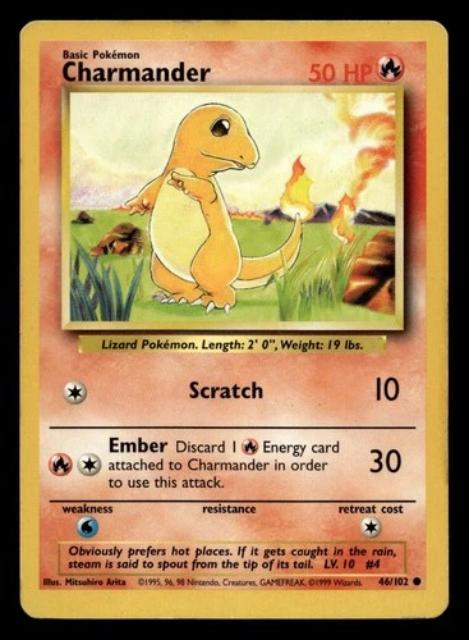Card: (15, 15, 453, 621)
Name: (58, 59, 212, 87)
